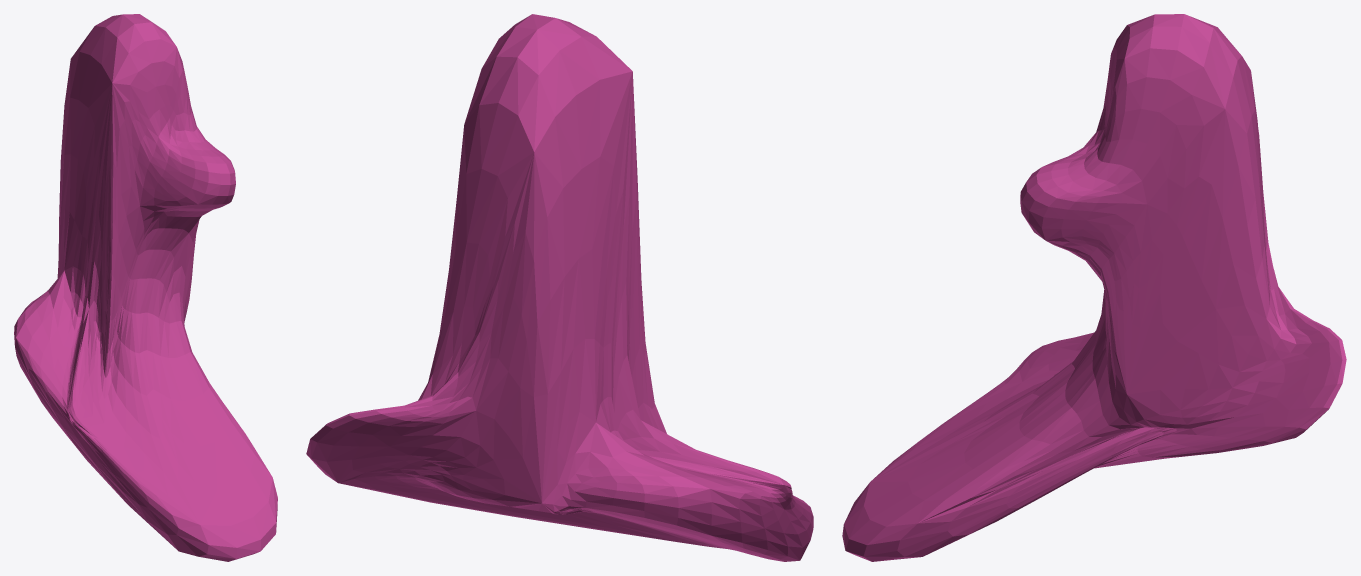
3 renders of one model, left to right at view 1: azimuth 30°, elevation 25°; view 2: azimuth 150°, elevation 25°; view 3: azimuth 270°, elevation 25°, orthographic. The views are drawn at different scales.
Visible parts, largest first — view 1: 510_Cube.2061; view 2: 510_Cube.2061; view 3: 510_Cube.2061.
Boxes of the visible parts, x1=… form: 510_Cube.2061: x1=14, y1=14, x2=277, y2=561; 510_Cube.2061: x1=306, y1=14, x2=813, y2=561; 510_Cube.2061: x1=842, y1=14, x2=1346, y2=561.
Bounding box in the file's own units: 8.21 × 16.05 × 13.48.
